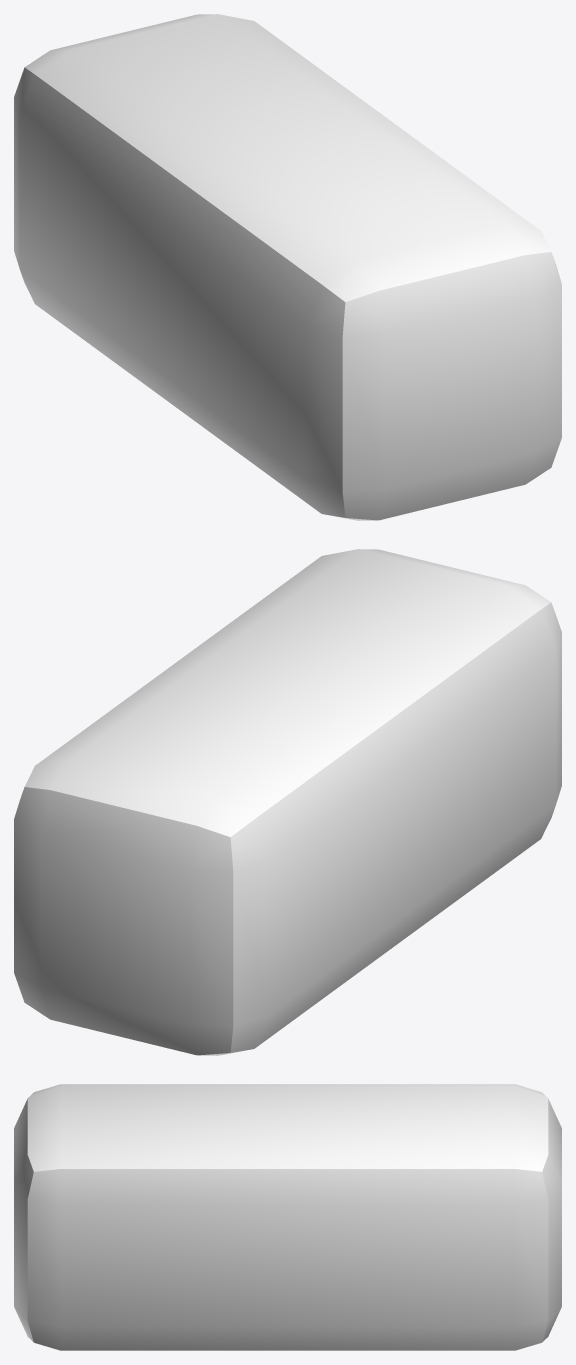
Rendered from RockSmall001.fbx.
3 views of the same model, one above another, from view 1: azimuth 30°, elevation 25°; view 2: azimuth 150°, elevation 25°; view 3: azimuth 270°, elevation 25° (orthographic). The views are drawn at different scales.
Visible parts, largest first — view 1: RockSmall001; view 2: RockSmall001; view 3: RockSmall001.
Part boxes in pixels (<box>): RockSmall001: <box>14,14,561,520</box>; RockSmall001: <box>14,549,561,1055</box>; RockSmall001: <box>14,1084,561,1350</box>.
Bounding box in the file's own units: 84.79 × 84.79 × 204.
